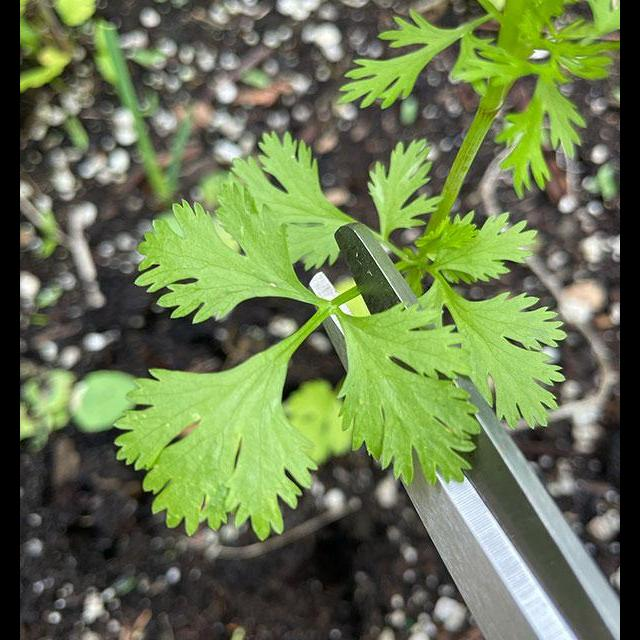cilantro: (141, 146, 484, 529)
